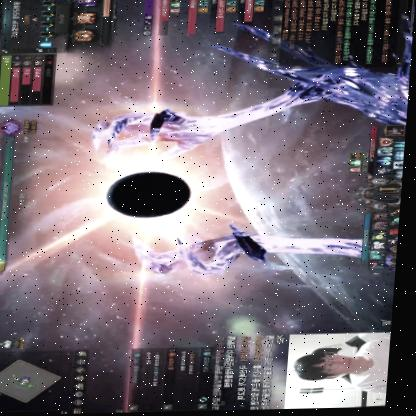streamer: (296, 335, 396, 400)
